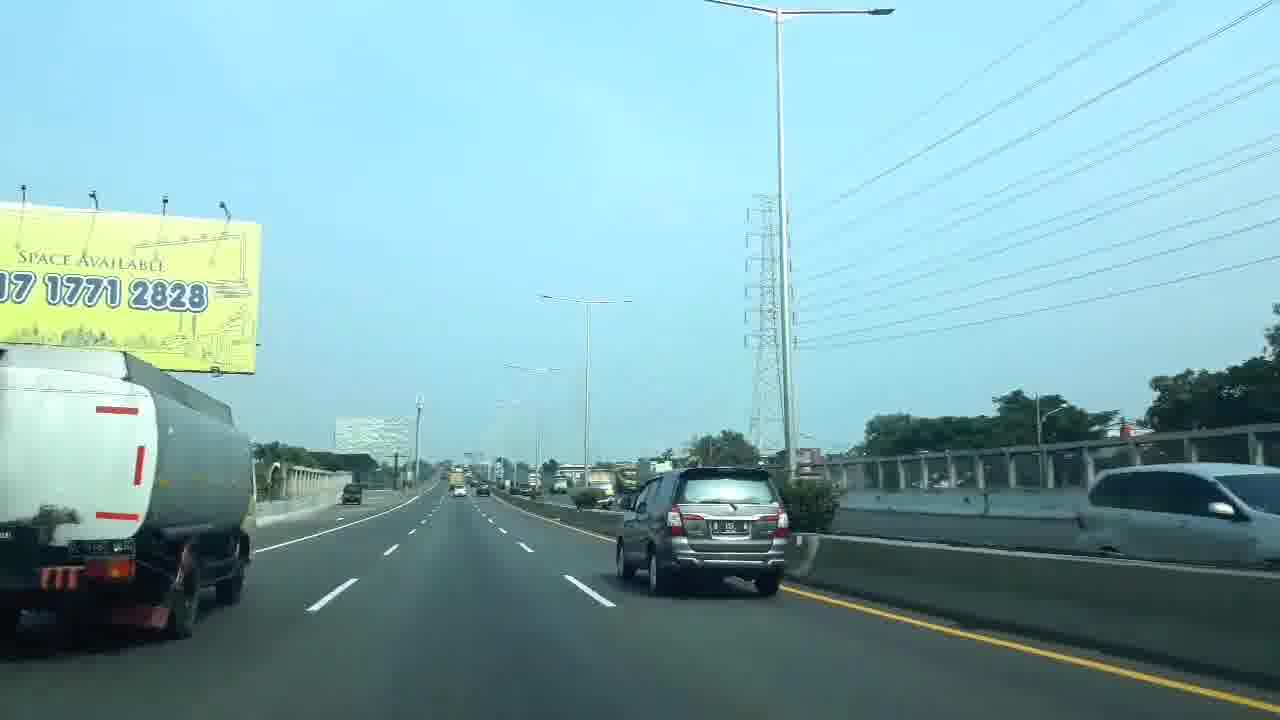plate_positive: (711, 520, 750, 536)
